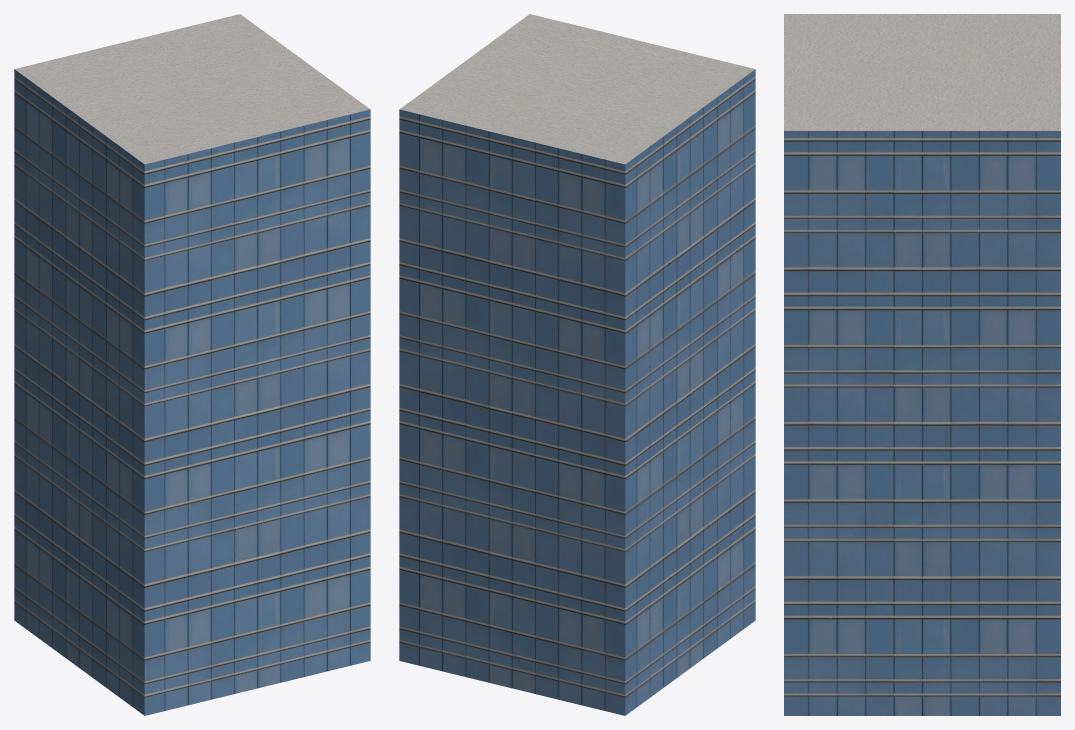
Rendered from building_024.glb.
3 renders of one model, left to right at view 1: azimuth 30°, elevation 25°; view 2: azimuth 150°, elevation 25°; view 3: azimuth 270°, elevation 25°, orthographic. The views are drawn at different scales.
Visible parts, largest first — view 1: building_024.001; view 2: building_024.001; view 3: building_024.001.
Boxes of the visible parts, box(x1,y1,x2,y2) form: building_024.001: box(14, 14, 370, 715); building_024.001: box(399, 14, 755, 715); building_024.001: box(784, 14, 1060, 715).
Size of the model in its own units: 13.5 by 31.5 by 13.5.
2 materials, 2 textured.
